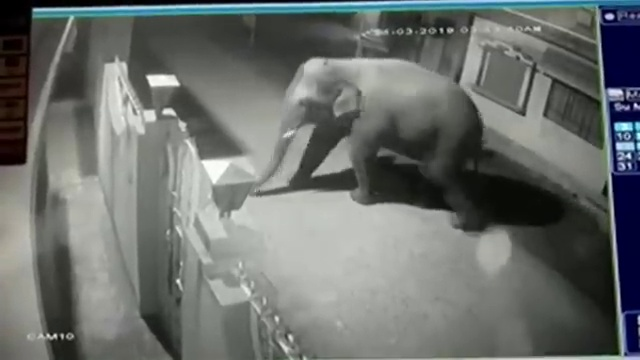Elephant: (257, 57, 489, 233)
